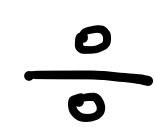div: (24, 24, 153, 122)
